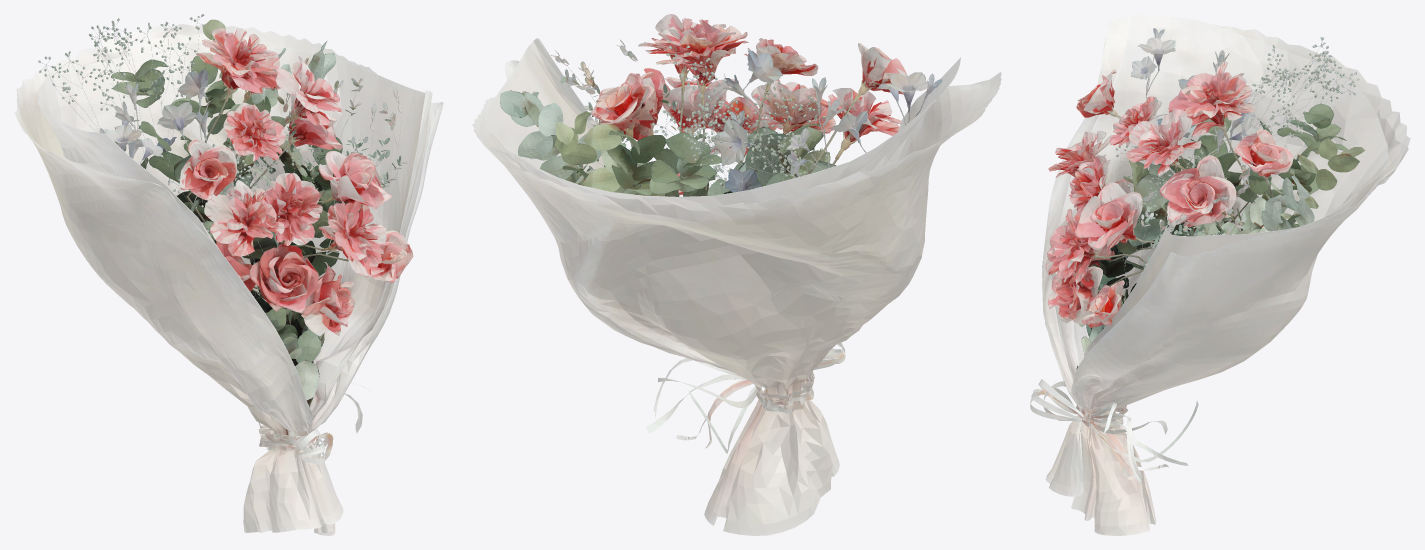
Rendered from 698f5ebdb962c_1771003581.glb.
3 views of the same model, side by side, from view 1: azimuth 30°, elevation 25°; view 2: azimuth 150°, elevation 25°; view 3: azimuth 270°, elevation 25° (orthographic). The views are drawn at different scales.
Visible parts, largest first — view 1: outer, inner, petal_001, petal_006, petal_008, smallplantC_petals, petal_010, petal_002, petal_012, leaf_001, petal_007, petal_014 (+20 smaller); view 2: outer, inner, leaf_007, smallplantC_petals, leaf_001, petal_006, ribbon, petal_002, petal_012, petal_009, petal_001, leaf_004 (+13 smaller); view 3: outer, inner, petal_005, petal_006, ribbon, leaf_007, petal_012, petal_011, leaf_006, petal_010, smallplantC_petals, leaf_001 (+16 smaller).
Boxes of the visible parts, <box> form: outer: <box>14,23,443,535</box>; inner: <box>38,42,432,435</box>; petal_001: <box>204,180,284,256</box>; petal_006: <box>196,28,280,93</box>; petal_008: <box>249,243,319,313</box>; smallplantC_petals: <box>99,69,208,160</box>; petal_010: <box>318,201,386,276</box>; petal_002: <box>261,172,322,245</box>; petal_012: <box>318,151,391,209</box>; leaf_001: <box>111,55,235,118</box>; petal_007: <box>223,102,285,161</box>; petal_014: <box>180,139,237,200</box>; outer: <box>472,60,1001,535</box>; inner: <box>485,38,961,206</box>; leaf_007: <box>518,103,715,196</box>; smallplantC_petals: <box>713,50,942,192</box>; leaf_001: <box>607,130,721,195</box>; petal_006: <box>648,19,748,85</box>; ribbon: <box>646,342,845,453</box>; petal_002: <box>751,79,835,133</box>; petal_012: <box>662,73,738,132</box>; petal_009: <box>591,73,654,130</box>; petal_001: <box>812,87,901,141</box>; leaf_004: <box>723,123,819,193</box>; outer: <box>1042,18,1410,535</box>; inner: <box>1051,14,1388,380</box>; petal_005: <box>1159,155,1236,226</box>; petal_006: <box>1168,61,1256,137</box>; ribbon: <box>1030,379,1198,483</box>; leaf_007: <box>1235,138,1365,226</box>; petal_012: <box>1074,182,1142,249</box>; petal_011: <box>1126,109,1201,175</box>; leaf_006: <box>1116,160,1207,254</box>; petal_010: <box>1045,208,1103,284</box>; smallplantC_petals: <box>1130,28,1257,172</box>; leaf_001: <box>1278,103,1347,194</box>.
Bounding box in the file's own units: 0.5816 × 0.6426 × 0.4983.
31 materials, 31 textured.
